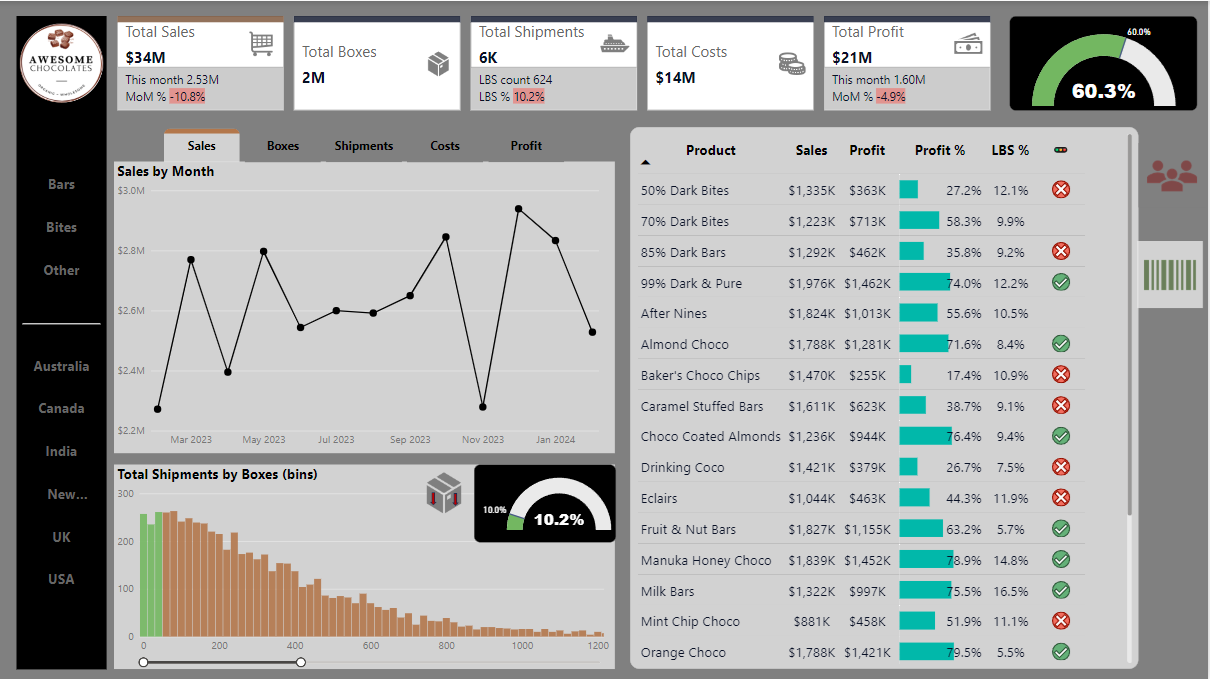

What the dashboard file says about the page in this screenshot:
{"tool":"powerbi","page":{"name":"Sales Report","canvas":[1920,1080],"ordinal":2},"visuals":[{"type":"shape","box":[26.7,24.3,143.3,1039.5],"z":0},{"type":"cardVisual","fields":{"Data":["_Measure.Total Sales","_Measure.Total Boxes","_Measure.Total Shipments","_Measure.Total Costs","_Measure.Total Profit"]},"box":[182.2,24.3,1401.4,150.6],"z":1000},{"type":"gauge","fields":{"Y":["_Measure.Profit %"]},"box":[1605.5,24.3,298.7,150.6],"z":2000},{"type":"image","box":[26.7,24.3,143.3,150.6],"z":3000},{"type":"lineChart","fields":{"Y":["_Measure.Total Sales"],"Category":["calendar.Start of Month"]},"box":[182.2,255,796.7,463.9],"z":4000},{"type":"advancedSlicerVisual","fields":{"Values":["Measure Selector.Measure Selector"]},"box":[255.3,202.8,649,54.9],"z":5000},{"type":"columnChart","fields":{"Category":["shipments.Boxes (bins)"],"Y":["_Measure.Total Shipments"]},"box":[182.2,738.4,796.7,325.5],"z":6000},{"type":"gauge","fields":{"Y":["_Measure.LowBoxShip %"]},"box":[752.9,738.4,225.9,123.9],"z":7000},{"type":"image","box":[658.2,738.4,94.7,89.9],"z":8000},{"type":"tableEx","title":"Table Product","fields":{"Values":["products.Product","_Measure.Total Sales","_Measure.Total Profit","_Measure.Profit %","_Measure.LowBoxShip %","_Measure.Profit Target Indicator"]},"box":[1003.1,201.6,808.8,862.2],"z":10000},{"type":"image","title":"Product on","box":[1809.5,381.3,104.4,106.9],"z":12000},{"type":"advancedSlicerVisual","fields":{"Values":["products.Category"]},"box":[26.7,255,143.3,208.9],"z":13000},{"type":"advancedSlicerVisual","fields":{"Values":["shipments.Geography"]},"box":[26.7,544.1,143.3,415.3],"z":14000},{"type":"shape","box":[36.4,488.2,123.9,48.6],"z":15000},{"type":"image","title":"People off","box":[1811.1,227.6,106.4,101.4],"z":16000}]}

Visuals, with their boxes in screenshot pixels (x1, y1, x2, y2), scaled from the page's 1920x1080 canvas onto the 1210x679 screenshot:
shape: {"left": 17, "top": 15, "right": 107, "bottom": 669}
cardVisual - _Measure.Total Sales x _Measure.Total Boxes: {"left": 115, "top": 15, "right": 998, "bottom": 110}
gauge - _Measure.Profit %: {"left": 1012, "top": 15, "right": 1200, "bottom": 110}
image: {"left": 17, "top": 15, "right": 107, "bottom": 110}
lineChart - _Measure.Total Sales x calendar.Start of Month: {"left": 115, "top": 160, "right": 617, "bottom": 452}
advancedSlicerVisual - Measure Selector.Measure Selector: {"left": 161, "top": 128, "right": 570, "bottom": 162}
columnChart - shipments.Boxes (bins) x _Measure.Total Shipments: {"left": 115, "top": 464, "right": 617, "bottom": 669}
gauge - _Measure.LowBoxShip %: {"left": 474, "top": 464, "right": 617, "bottom": 542}
image: {"left": 415, "top": 464, "right": 474, "bottom": 521}
"Table Product" tableEx: {"left": 632, "top": 127, "right": 1142, "bottom": 669}
"Product on" image: {"left": 1140, "top": 240, "right": 1206, "bottom": 307}
advancedSlicerVisual - products.Category: {"left": 17, "top": 160, "right": 107, "bottom": 292}
advancedSlicerVisual - shipments.Geography: {"left": 17, "top": 342, "right": 107, "bottom": 603}
shape: {"left": 23, "top": 307, "right": 101, "bottom": 337}
"People off" image: {"left": 1141, "top": 143, "right": 1208, "bottom": 207}
